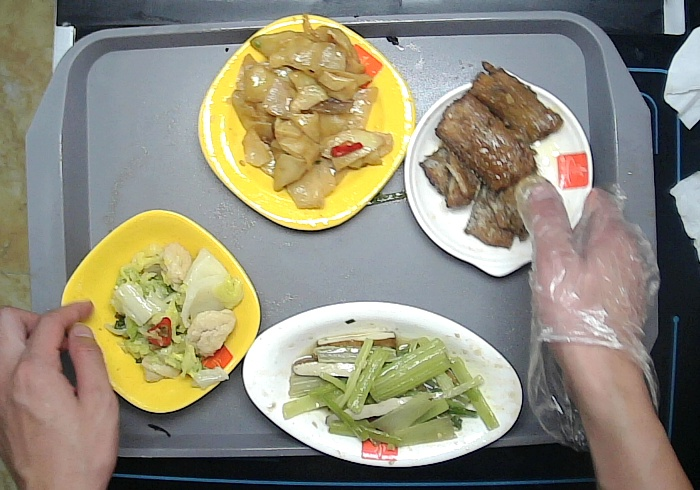SHKJ-Bao_Yu_Pan: (397, 63, 603, 284)
SHKJ-Huang_Se_Cai_Die: (54, 204, 266, 419)
SHKJ-Huang_Se_Si_Fang_Cai_Die: (193, 12, 422, 237)
SHKJ-Yu_Pan: (239, 295, 529, 473)
